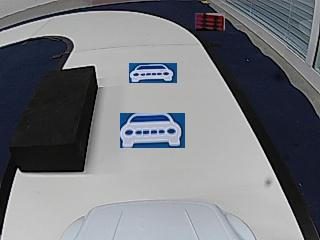block: (11, 66, 97, 172)
